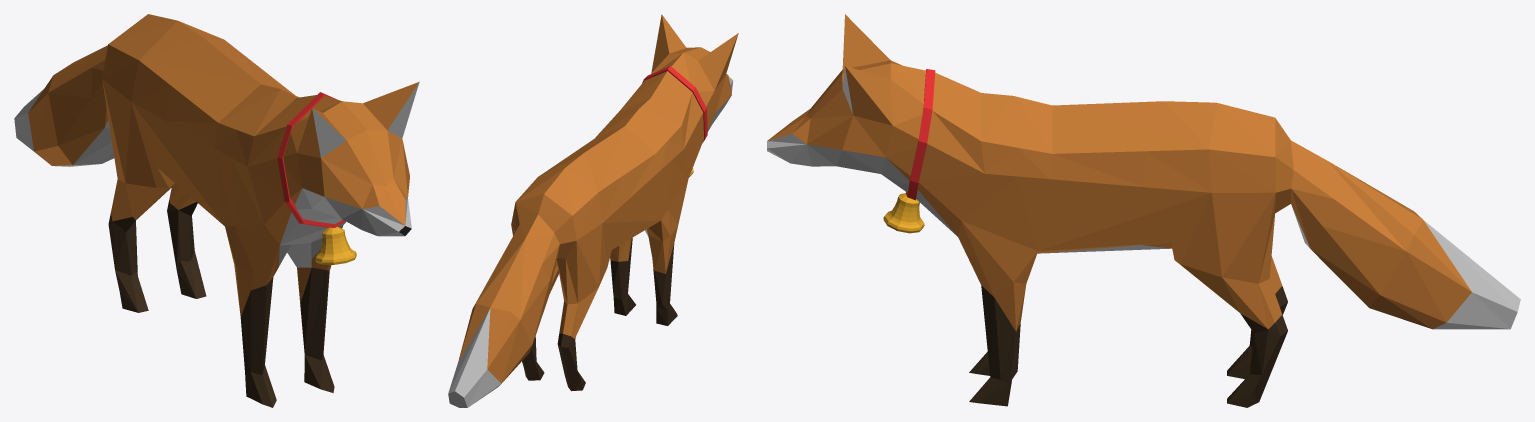
The model's file is Fox.FBX.
3 views of the same model, side by side, from view 1: azimuth 30°, elevation 25°; view 2: azimuth 150°, elevation 25°; view 3: azimuth 270°, elevation 25° (orthographic). The views are drawn at different scales.
Parts seen in each view (by area): view 1: Fox; view 2: Fox; view 3: Fox.
Part boxes in pixels (box(x1,y1,x2,y2)): Fox: box(14, 14, 419, 407); Fox: box(448, 14, 738, 407); Fox: box(767, 14, 1520, 407).
Bounding box in the file's own units: 25.81 × 81 × 159.
